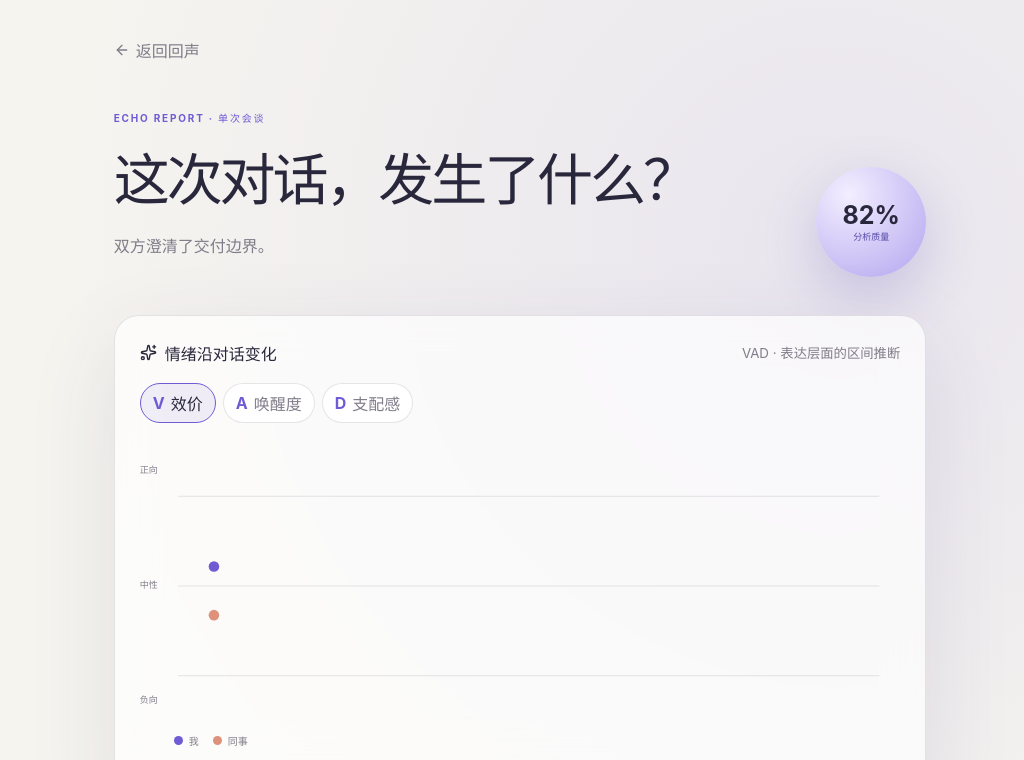
ReportView content and VAD accessibility › switches clearly among V, A, and D while retaining the interpretation boundary
Expected: the picture named "参与者效价变化图" is shown, [140,431,900,741]
Click the button "A 唤醒度" at (269, 403), box [223,383,315,423]
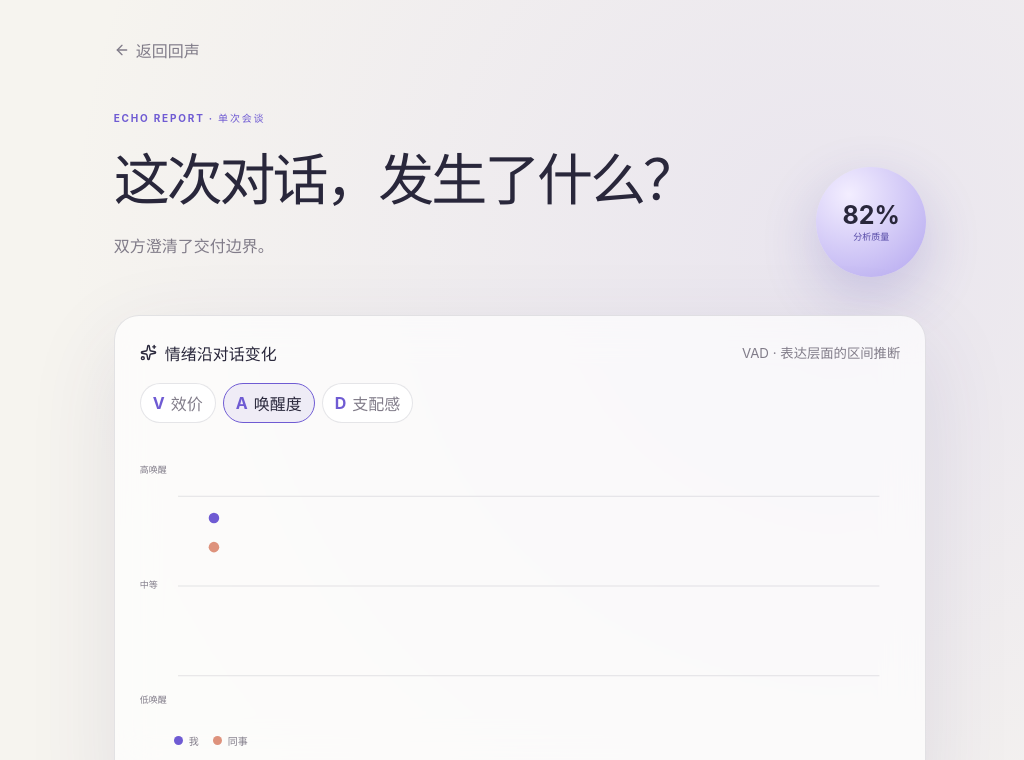
Result: the picture named "参与者唤醒度变化图" is shown at [140,431,900,741]
Click the button "D 支配感" at (368, 403), box [322,383,413,423]
(page scrolled)
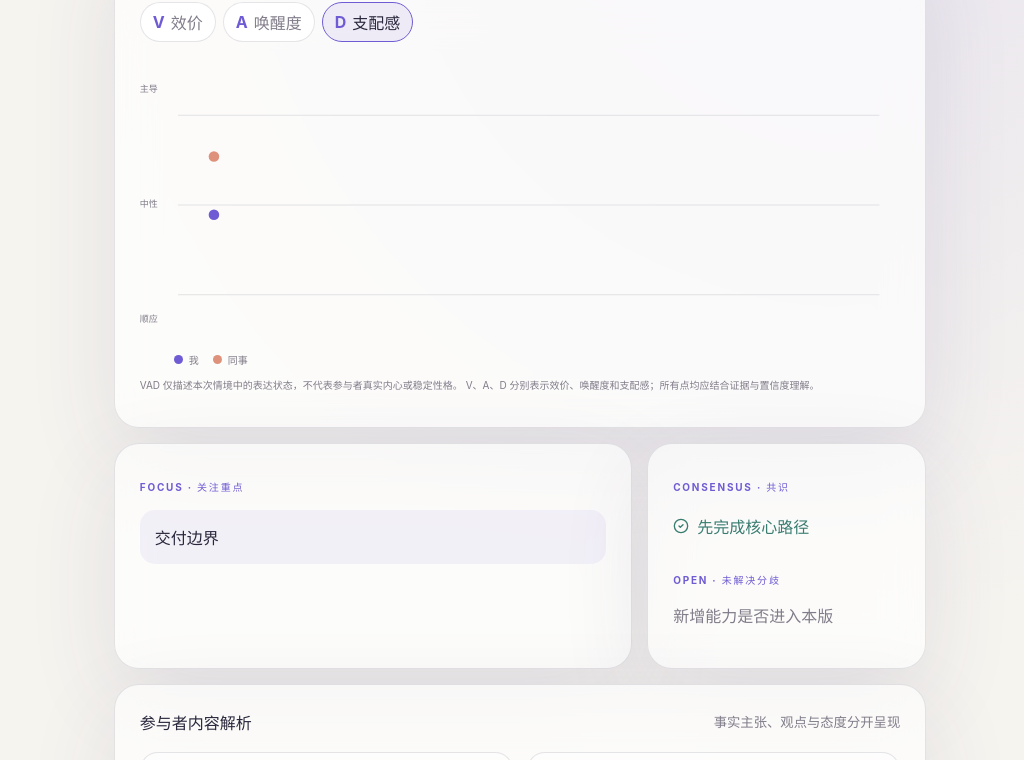
Expected: the text "不代表参与者真实内心或稳定性格" is shown, [140,379,820,391]
Result: the picture named "参与者支配感变化图" is shown at [140,50,900,360]
